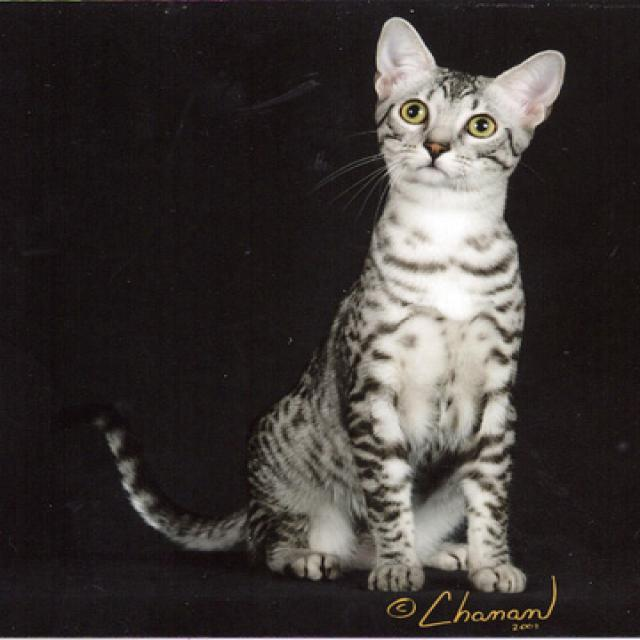Egyptian_Mau: (374, 14, 564, 189)
